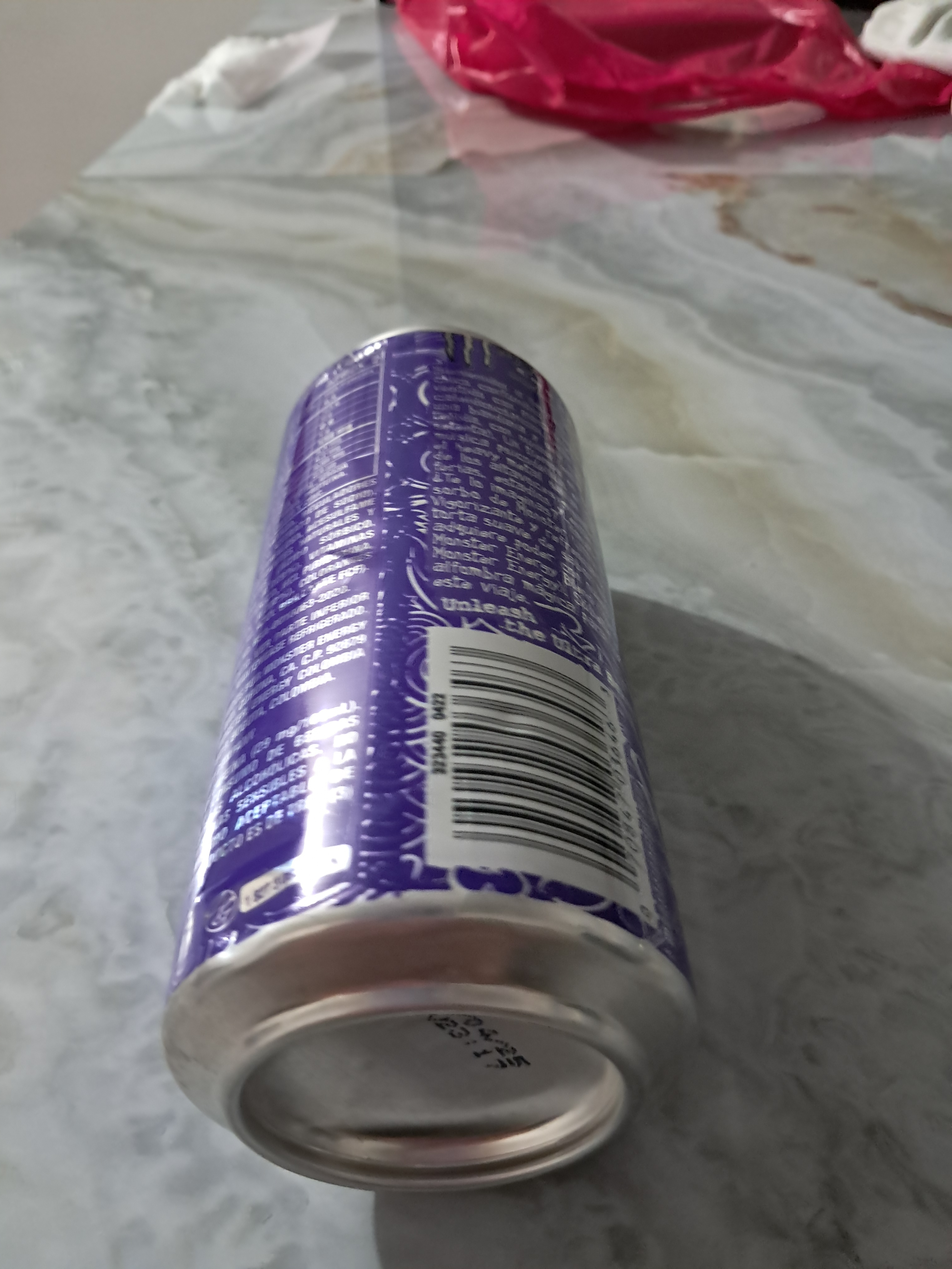energy_drink: (164, 327, 694, 1191)
